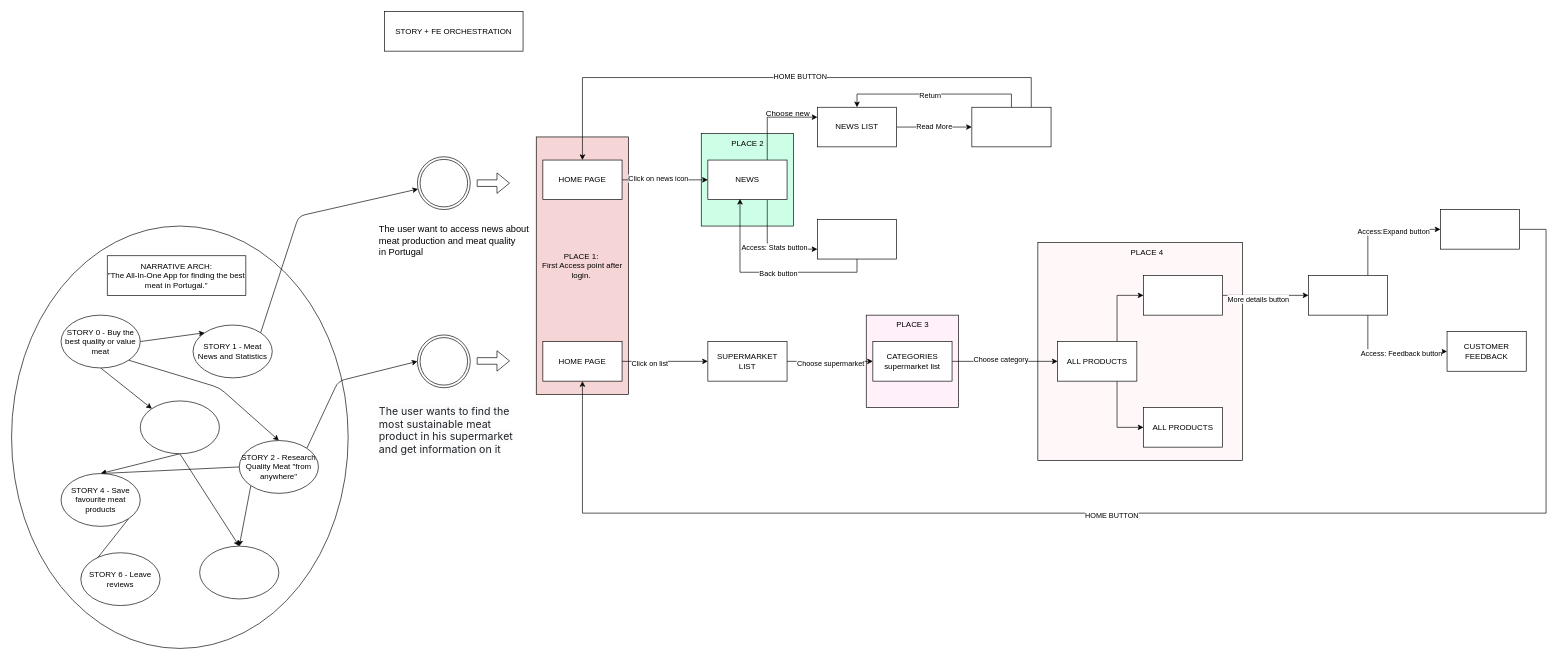
Some shapes in this 1563 by 660 pixel diagram are drawn without their labels. Each missing label, with the centre of its shape:
"+ INFORMATION" belongs at point 1011,127.
"LESS ENVIRONMENTAL IMPCAT PROD" belongs at point 1183,295.
"MORE DETAILS" belongs at point 1480,229.
"PROD DETAILS" belongs at point 1348,295.
"STATISTICS" belongs at point 857,239.
"STORY 1" belongs at point 443,183.
"STORY 2" belongs at point 443,361.
"STORY 3 - Scan meat in the supermarket" belongs at point 179,427.
"STORY 5 - Consult reviews" belongs at point 239,572.
